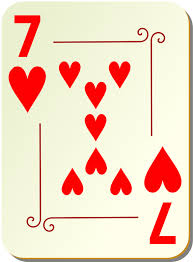seven of hearts: (1, 2, 189, 260)
